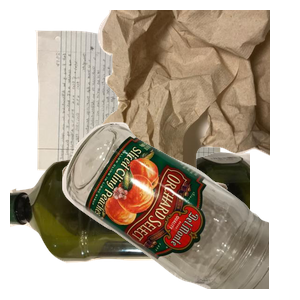glass: (60, 120, 300, 300)
paper: (32, 28, 249, 196)
plastic: (10, 149, 250, 300)
trash: (60, 10, 300, 190)
